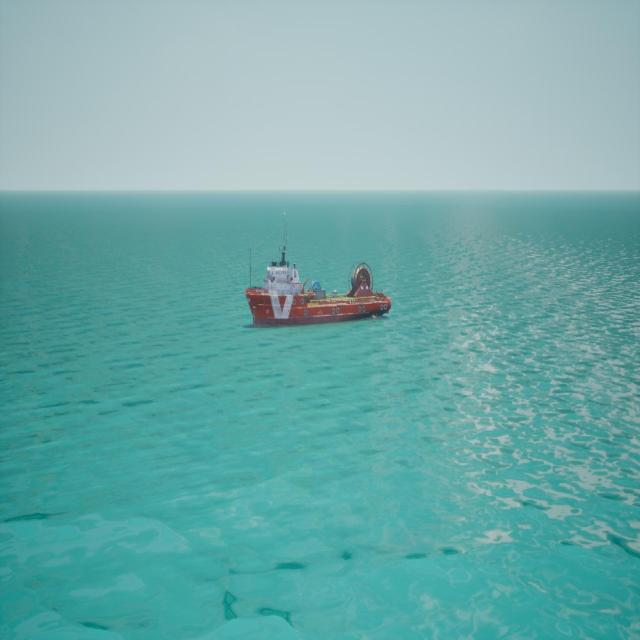tug boat: (244, 215, 391, 331)
